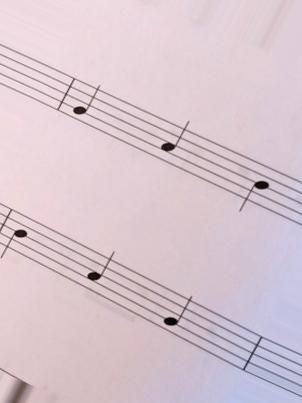note: (160, 281, 196, 355), (237, 150, 273, 221), (84, 243, 117, 312), (159, 113, 191, 182), (71, 70, 103, 135), (1, 197, 32, 264)
